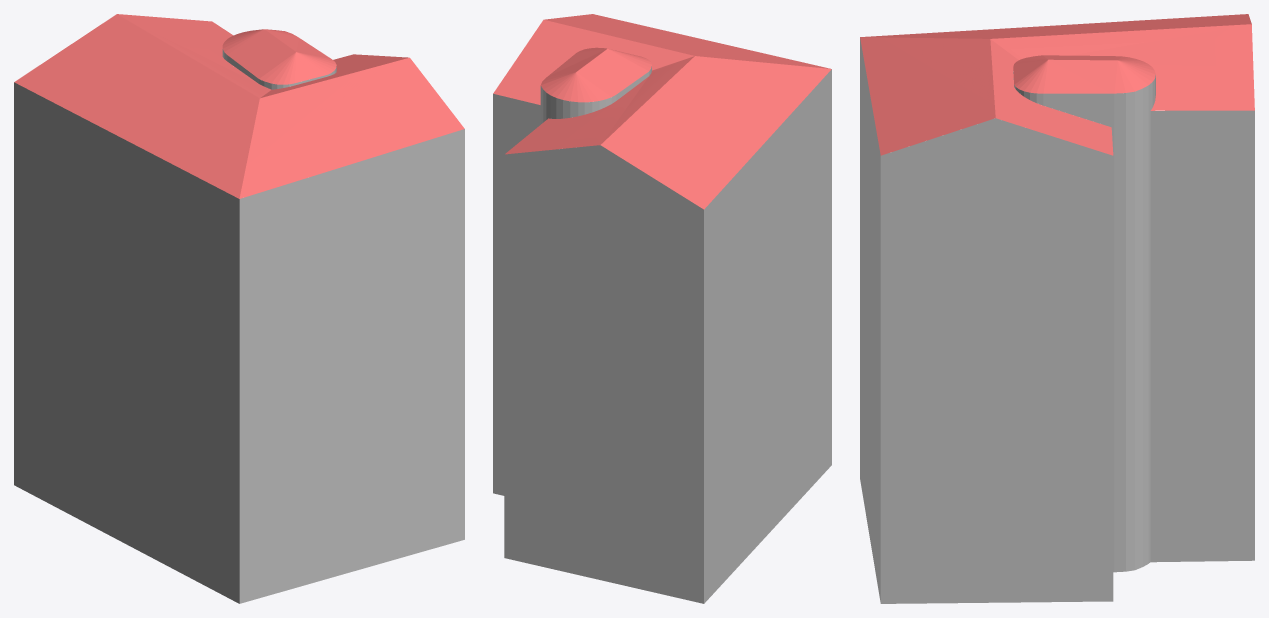
3 views of the same model, side by side, from view 1: azimuth 30°, elevation 25°; view 2: azimuth 150°, elevation 25°; view 3: azimuth 270°, elevation 25° (orthographic). The views are drawn at different scales.
Visible parts, largest first — view 1: Z_UP; view 2: Z_UP; view 3: Z_UP.
Boxes of the visible parts, box(x1,y1,x2,y2) form: Z_UP: box(14, 14, 464, 603); Z_UP: box(493, 14, 831, 603); Z_UP: box(860, 14, 1254, 603).
Bounding box in the file's own units: 16.83 × 25.86 × 18.69.
